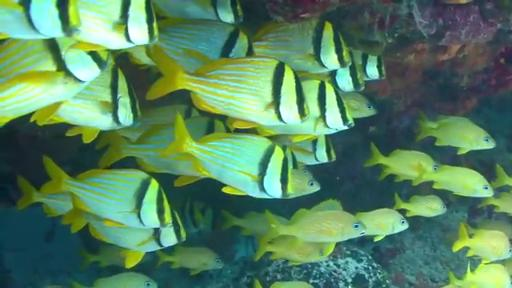Fish: (147, 46, 308, 127), (163, 115, 319, 198), (40, 156, 179, 227), (0, 39, 111, 123), (32, 62, 139, 143), (63, 212, 186, 267), (99, 124, 206, 186), (256, 80, 354, 135), (155, 19, 252, 72), (253, 20, 351, 72), (261, 200, 365, 242), (73, 0, 158, 50), (416, 113, 495, 154), (0, 0, 81, 39), (116, 104, 199, 141), (364, 143, 438, 184), (254, 236, 335, 265), (421, 165, 493, 197), (452, 224, 511, 263), (16, 176, 72, 216), (153, 0, 243, 23), (156, 246, 223, 275), (298, 64, 365, 92), (270, 136, 335, 164), (356, 208, 408, 241), (449, 263, 511, 287), (178, 199, 217, 234), (72, 272, 158, 287), (221, 211, 270, 237), (394, 193, 446, 217), (80, 244, 125, 267), (351, 50, 385, 80), (329, 63, 365, 91), (341, 92, 377, 118), (466, 220, 511, 239), (479, 192, 511, 215), (492, 164, 511, 187), (270, 281, 313, 287)
